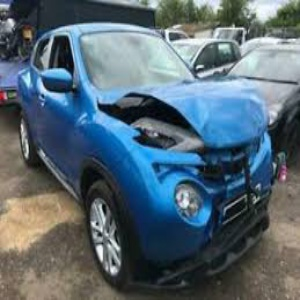bonnet: (161, 78, 273, 138)
